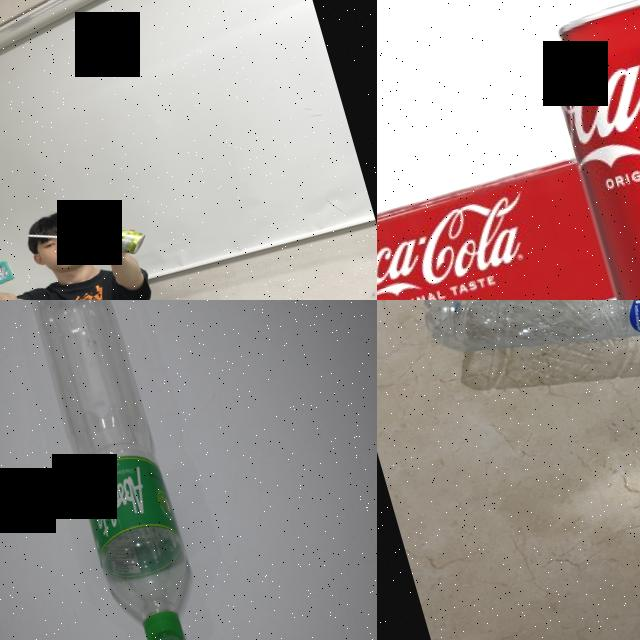bottle: (14, 300, 215, 640), (407, 300, 640, 417)
can: (537, 0, 640, 300), (68, 206, 150, 270)
